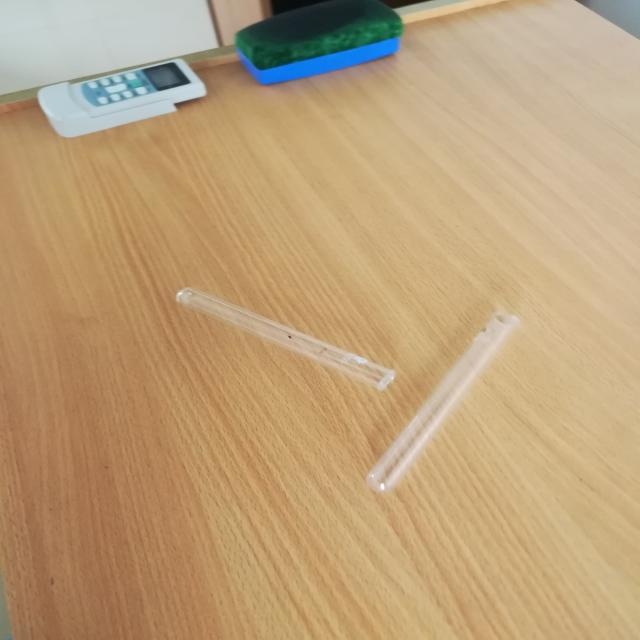Test_Tube: (311, 276, 607, 507), (67, 250, 428, 407)
